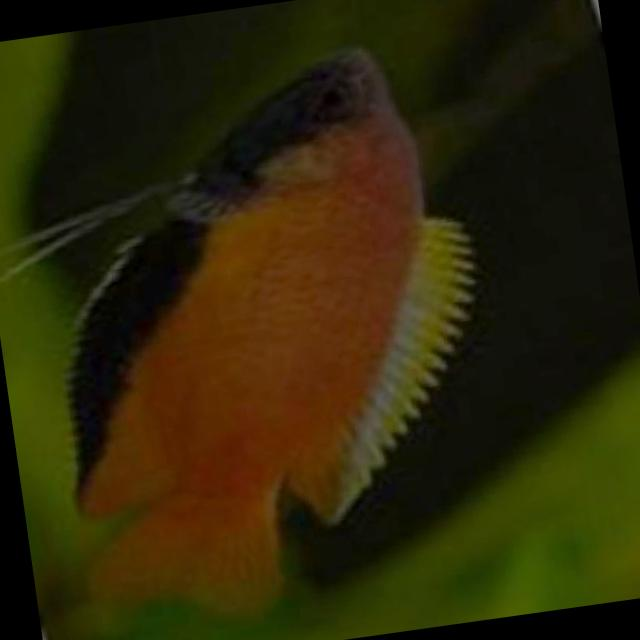Gourami: (12, 34, 516, 631)
